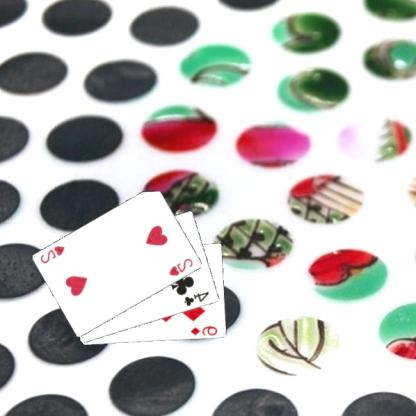2H: (40, 243, 69, 265), (168, 255, 196, 277)
4C: (183, 289, 213, 307)
9D: (189, 323, 221, 337)
